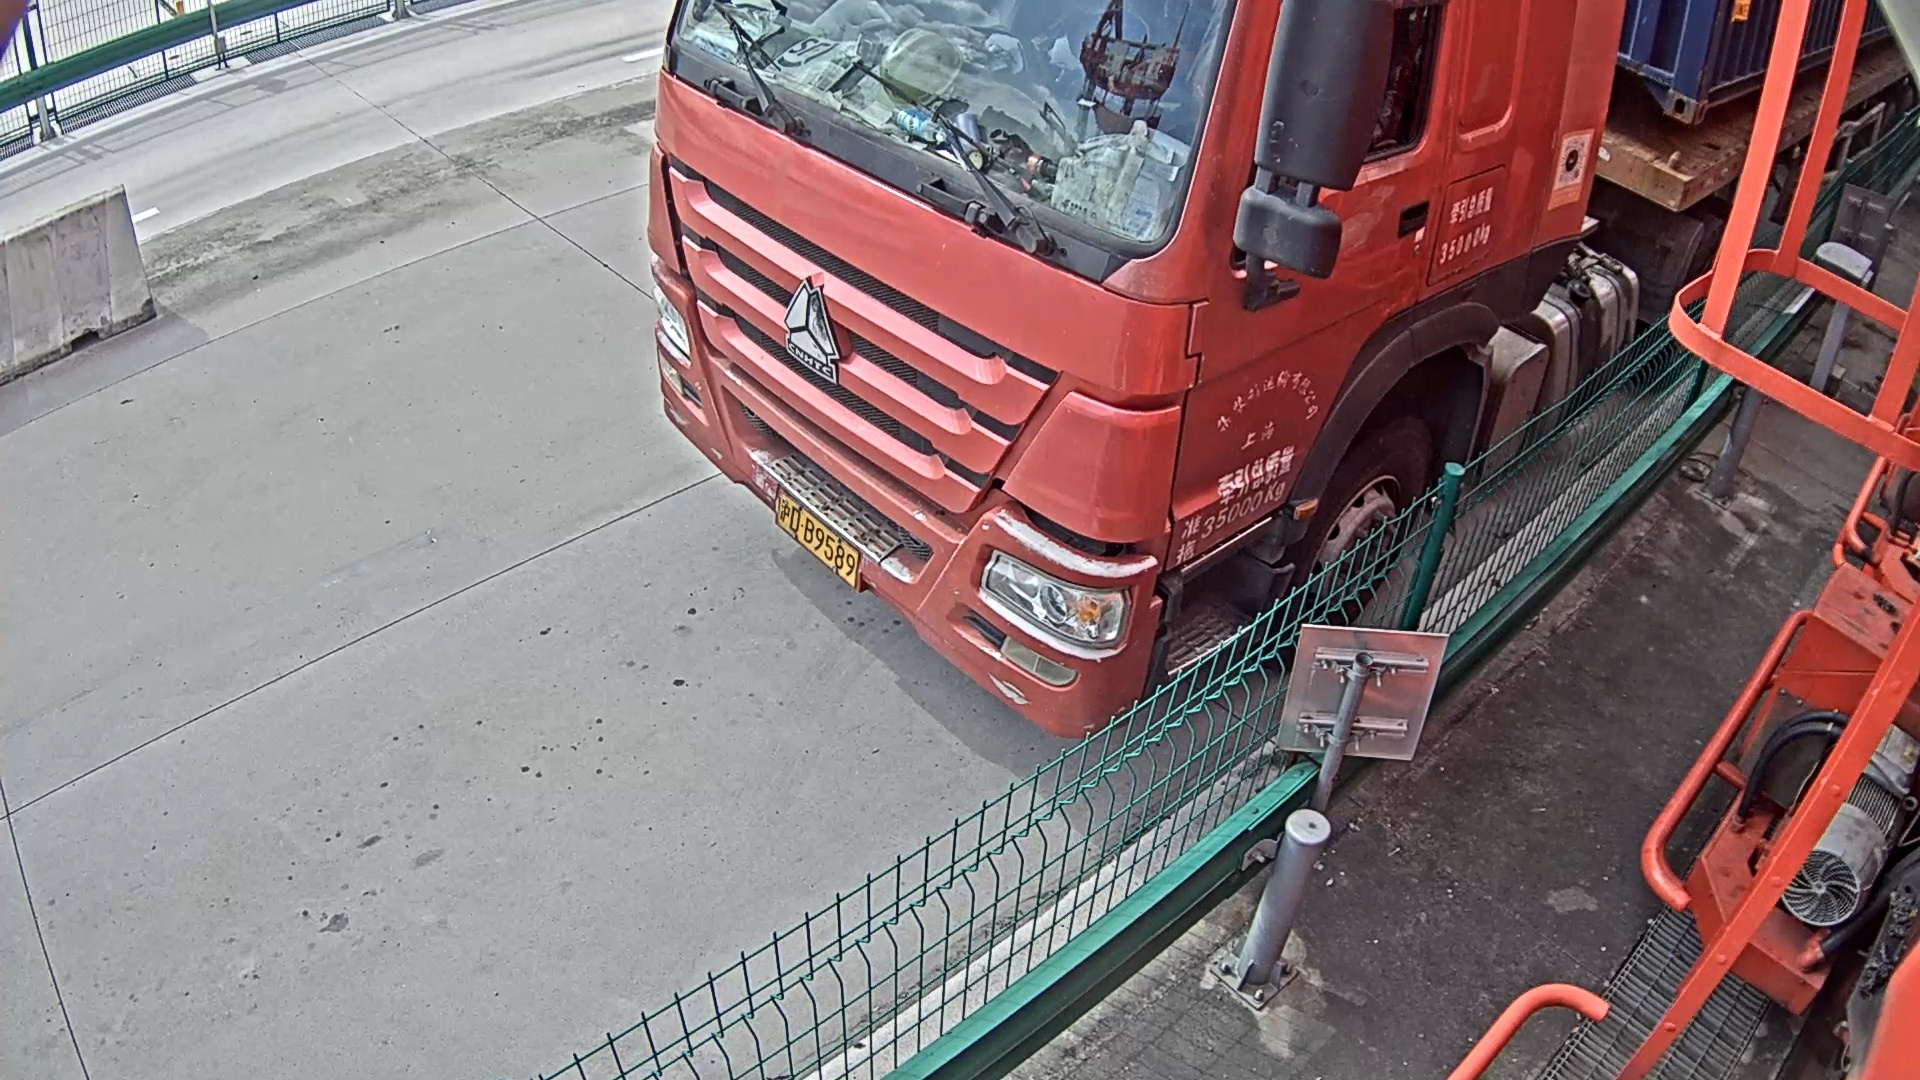head: (648, 1, 1616, 733)
plate: (775, 494, 867, 578)
